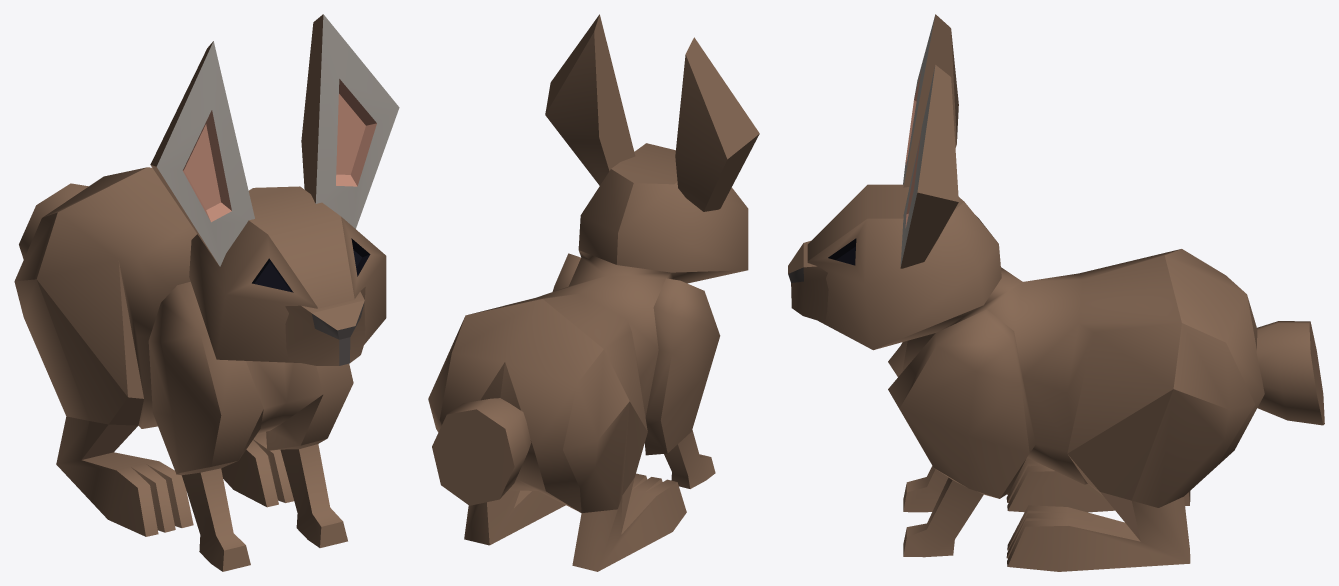
File: Rabbit.fbx
3 views of the same model, side by side, from view 1: azimuth 30°, elevation 25°; view 2: azimuth 150°, elevation 25°; view 3: azimuth 270°, elevation 25° (orthographic). The views are drawn at different scales.
Visible parts, largest first — view 1: Rabbit; view 2: Rabbit; view 3: Rabbit.
Part boxes in pixels (x1,y1,x2,y2): Rabbit: (14, 14, 399, 571); Rabbit: (428, 14, 759, 571); Rabbit: (788, 14, 1324, 571).
Size of the model in its own units: 9.98 by 20.3 by 20.21.
